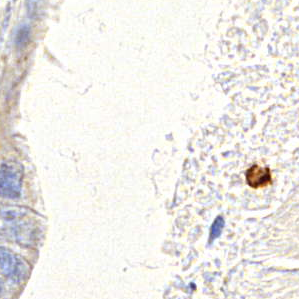Lymphocyte: (243, 161, 274, 190)
